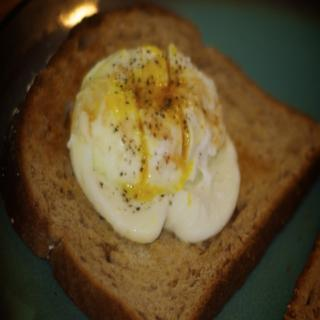Egg: (66, 46, 241, 244)
